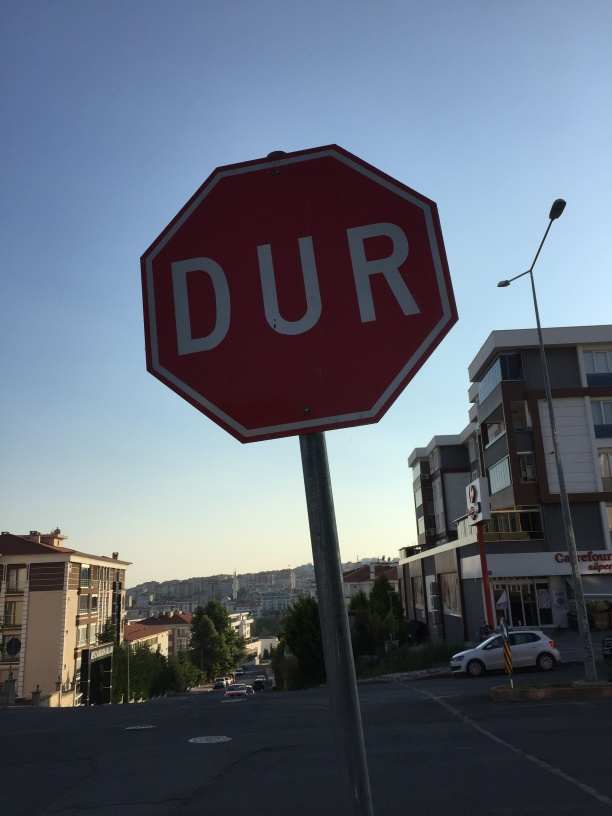arac_dur_isareti: (136, 129, 499, 671)
